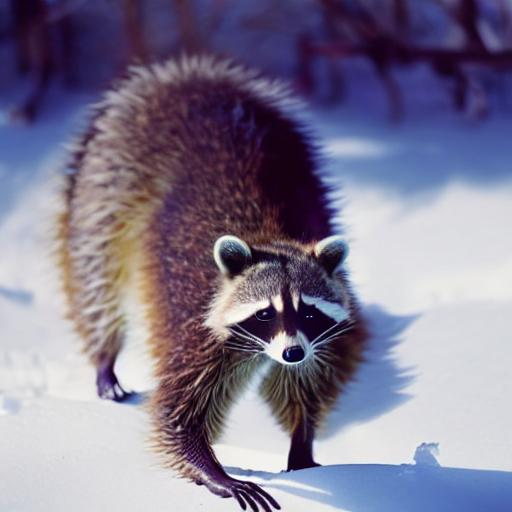raccoon: (43, 40, 379, 442)
